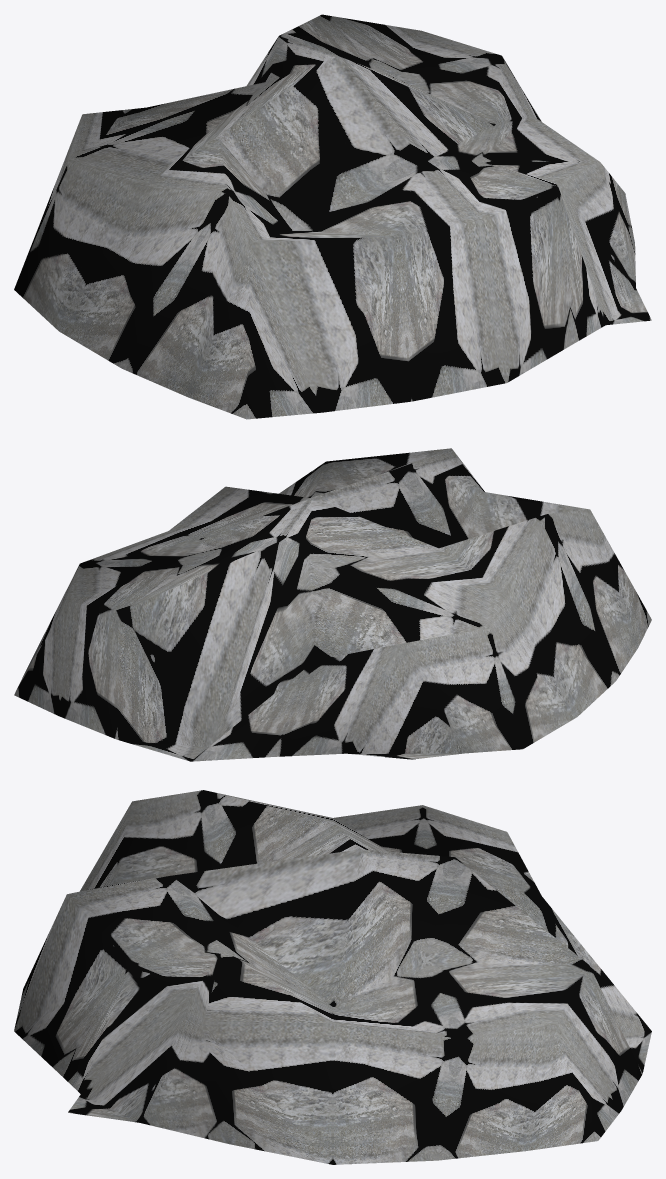
The model's file is Kamen.FBX.
3 views of the same model, one above another, from view 1: azimuth 30°, elevation 25°; view 2: azimuth 150°, elevation 25°; view 3: azimuth 270°, elevation 25° (orthographic). The views are drawn at different scales.
Visible parts, largest first — view 1: Kamen; view 2: Kamen; view 3: Kamen.
Boxes of the visible parts, left/top/right/bottom form: Kamen: left=14, top=14, right=651, bottom=419; Kamen: left=14, top=448, right=651, bottom=761; Kamen: left=14, top=790, right=651, bottom=1164.
Bounding box in the file's own units: 20.04 × 6.54 × 20.22.
